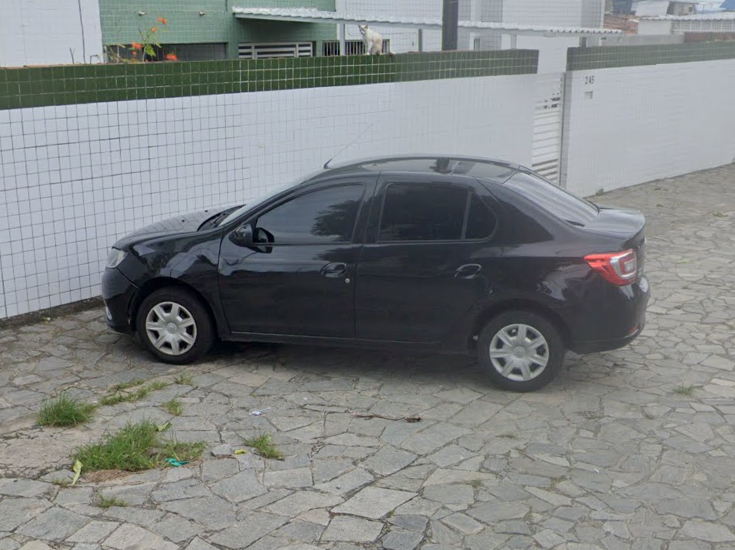car: (98, 125, 653, 394)
